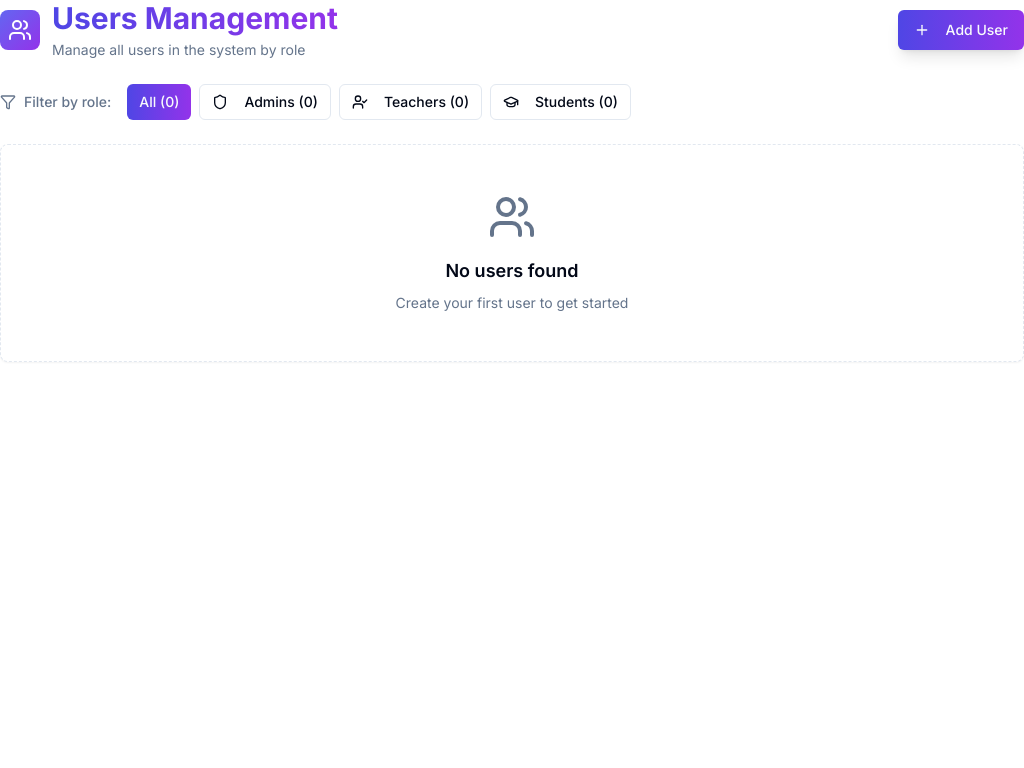
Test: UsersTab › should open create user dialog
Click the button "Add User" at (961, 30), box top-left (898, 10), bottom-right (1023, 50)
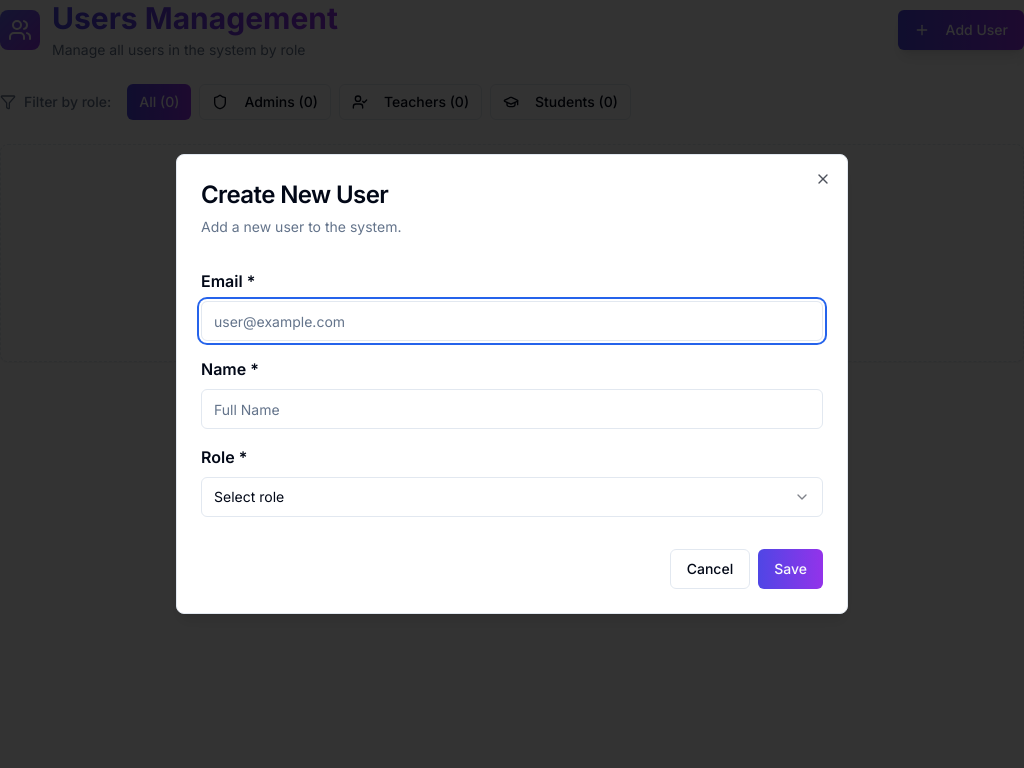
Check: the heading "Create New User" is shown, box top-left (201, 180), bottom-right (388, 209)
